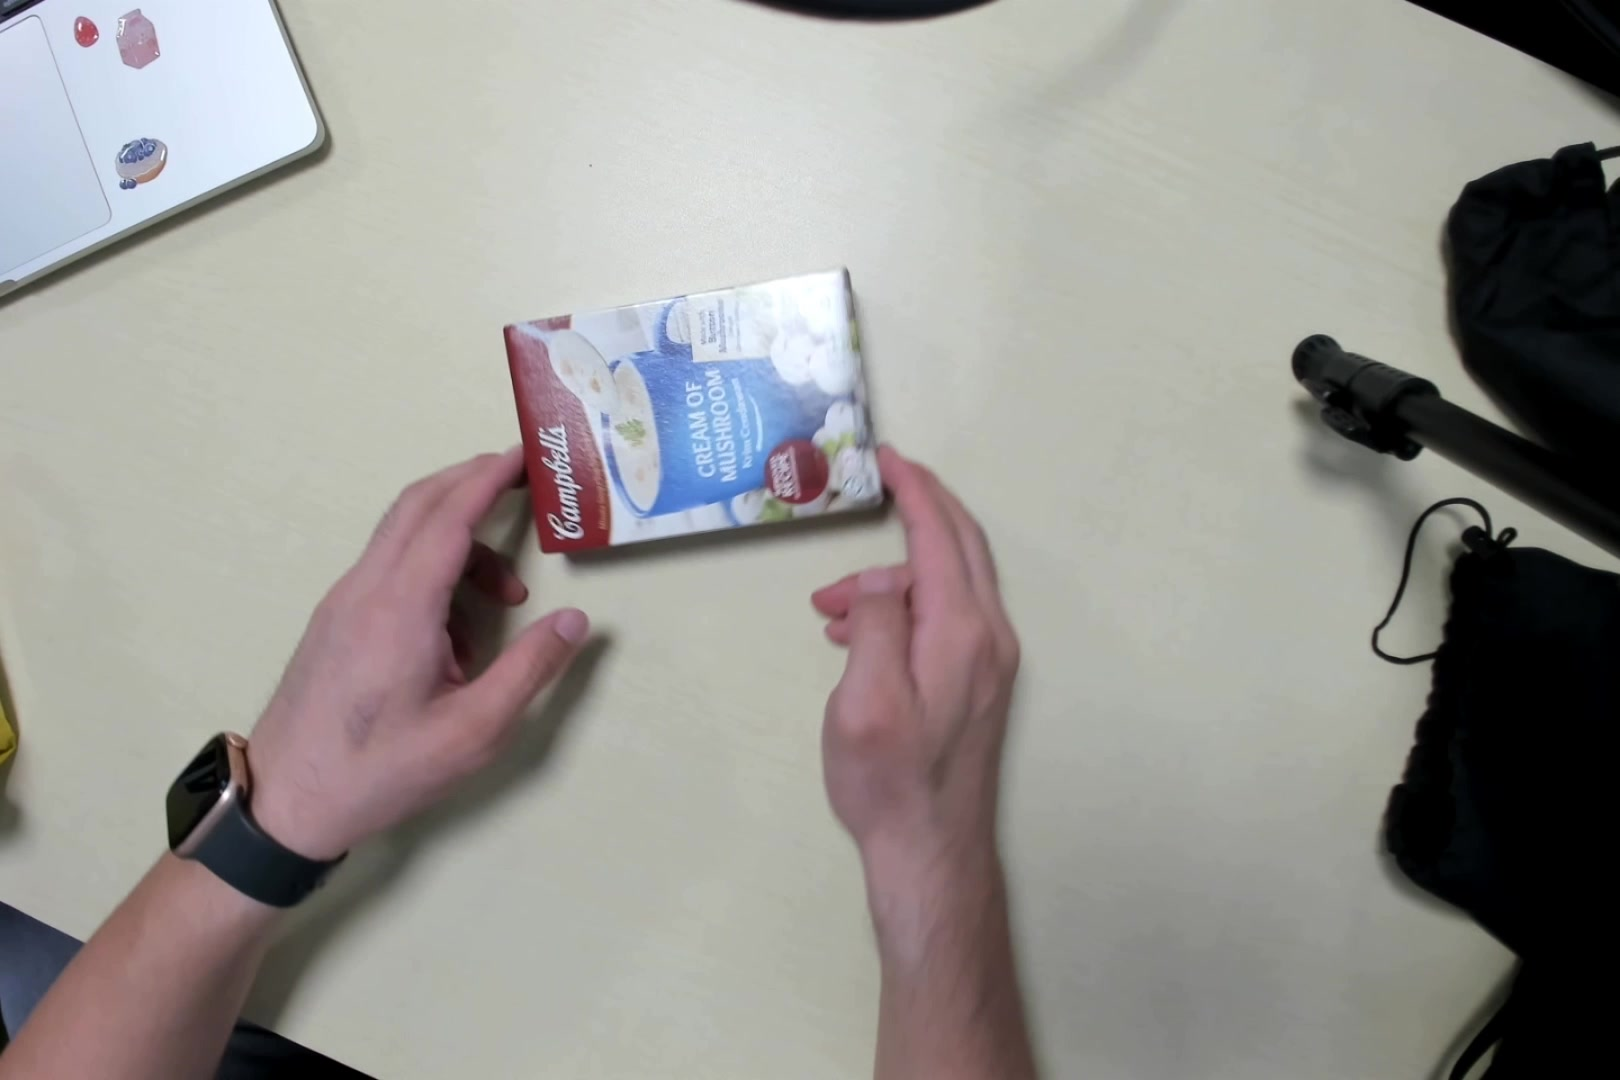InstantMeals_0-99g_Halal_NonHealthy: (503, 264, 882, 548)
